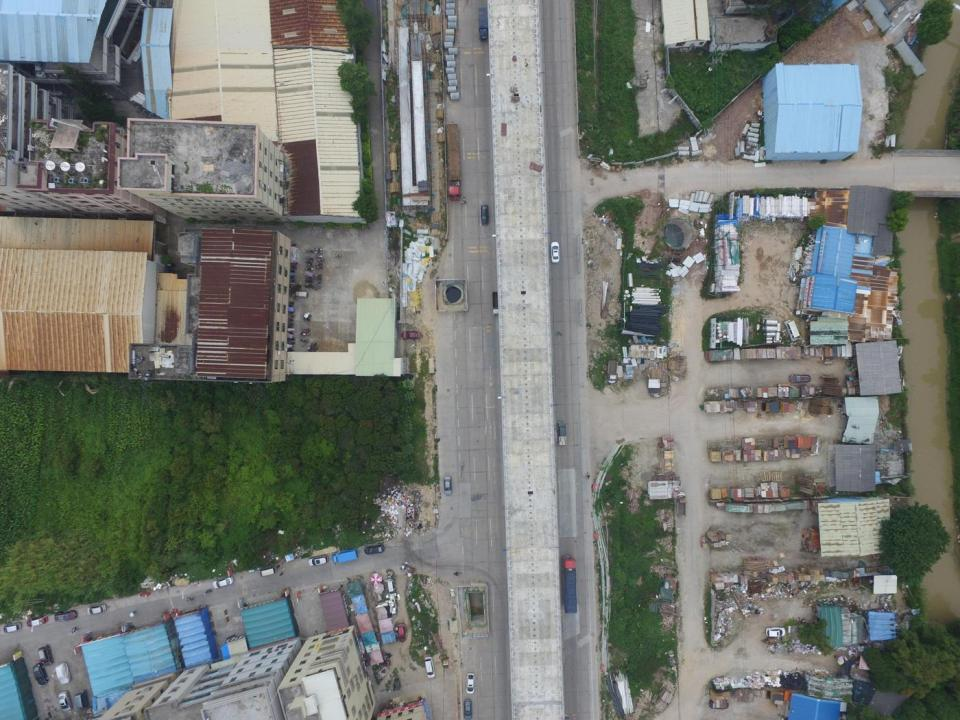car: (32, 662, 49, 686), (58, 691, 73, 713), (38, 644, 53, 666), (55, 662, 70, 684), (26, 615, 48, 628), (764, 625, 786, 638), (74, 690, 89, 709), (54, 610, 77, 622), (212, 577, 234, 589), (708, 699, 730, 711), (399, 330, 422, 341), (424, 656, 435, 678), (462, 698, 473, 720), (788, 373, 810, 384), (308, 555, 329, 566), (364, 544, 385, 555), (551, 241, 561, 264), (259, 565, 277, 577), (443, 475, 453, 496), (2, 622, 21, 633), (87, 604, 106, 615), (397, 622, 406, 642), (466, 673, 475, 693), (480, 204, 488, 226)
truck: (445, 123, 465, 201), (560, 555, 580, 615), (330, 548, 358, 564), (477, 7, 489, 43), (675, 492, 688, 516), (491, 289, 502, 317), (607, 360, 618, 384), (558, 420, 568, 446)
